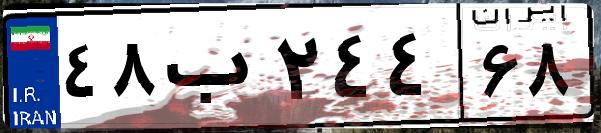2: (270, 28, 330, 110)
4: (385, 28, 445, 110), (330, 28, 385, 110), (57, 26, 110, 100)
6: (475, 38, 525, 113)
8: (525, 38, 570, 115), (110, 28, 158, 98)
ب: (158, 20, 270, 120)
